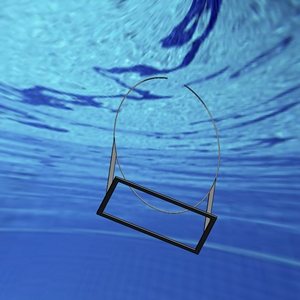circle: (96, 74, 224, 254)
